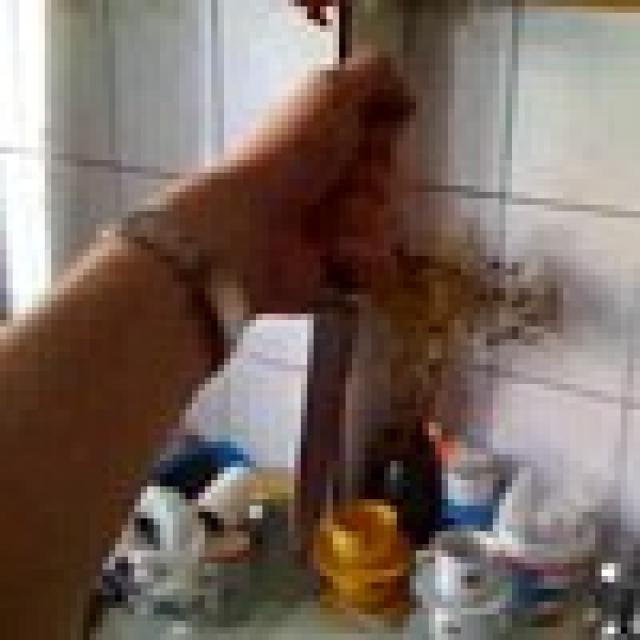knife: (288, 77, 403, 544)
